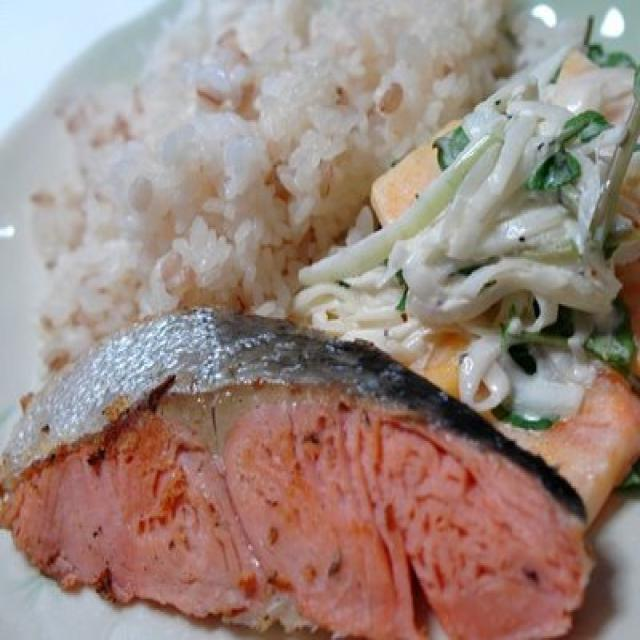熟制海鲜: (0, 306, 595, 640)
